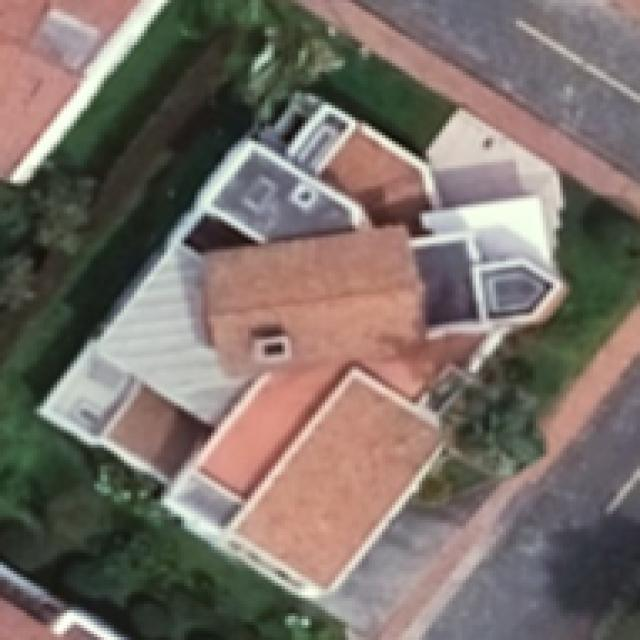Batiment: (226, 369, 440, 596), (199, 337, 482, 498), (205, 228, 424, 374), (0, 0, 167, 182), (96, 245, 248, 424), (427, 110, 556, 248), (197, 140, 367, 242), (322, 125, 429, 224), (38, 341, 135, 446), (421, 195, 555, 269), (1, 567, 128, 640)
